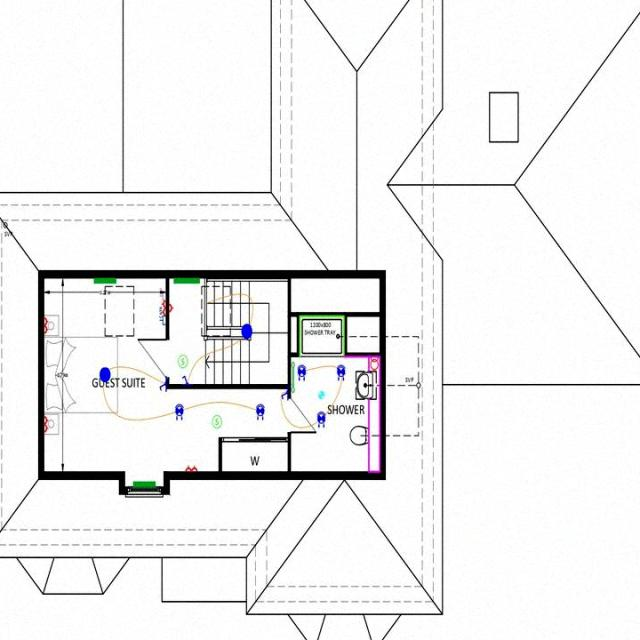Cat 6 Data Socket: (158, 314, 166, 324)
Ceiling Mounted Continuous Extract FanWith Boost Mode Activated By Light Switch: (317, 390, 323, 398)
Double Socket: (42, 316, 49, 334), (184, 463, 197, 471), (43, 415, 49, 431), (160, 300, 166, 314)
Full Height Tiling: (298, 314, 343, 356)
Light Switch: (180, 375, 188, 383), (279, 390, 286, 399), (158, 380, 164, 390)
Low Energy Downlighter: (172, 402, 184, 420), (254, 402, 264, 420), (296, 364, 306, 381), (336, 364, 344, 380), (316, 411, 324, 426)
Low Energy Pendant Light: (239, 322, 252, 338), (98, 366, 110, 382)
Mains Wired Smoke Detector: (176, 353, 188, 367), (211, 414, 221, 427)
Radiator: (173, 277, 199, 283), (92, 277, 116, 282), (132, 480, 154, 485)
Shaver Socket: (368, 356, 379, 372)
Single Socket: (168, 303, 173, 312)
TV - Satellite Multisocket: (159, 290, 165, 300)
